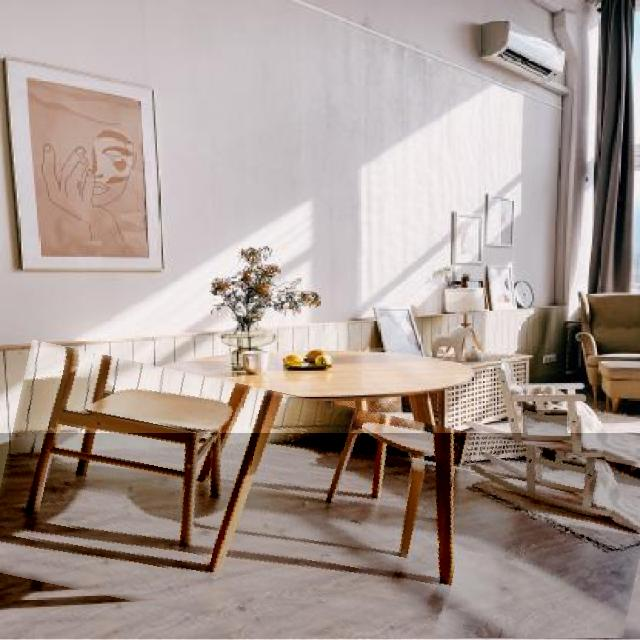floor: (0, 433, 640, 639), (524, 410, 567, 435), (620, 474, 639, 524), (492, 420, 507, 433)
